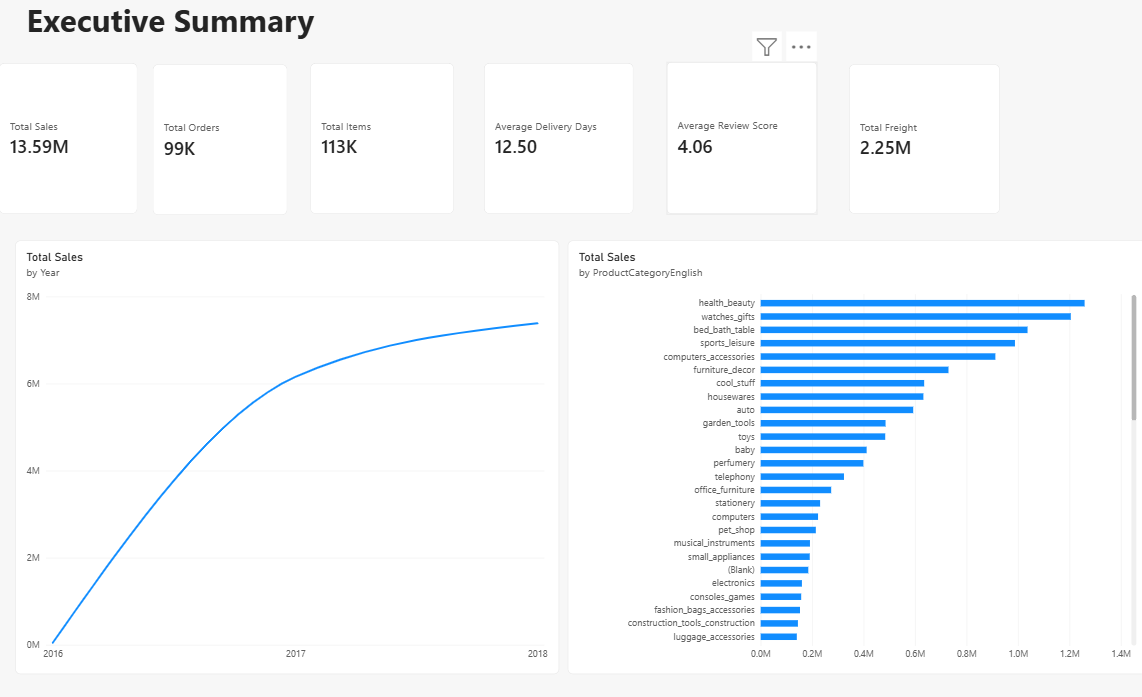

The dashboard page shown, as its layout file describes it:
{"tool":"powerbi","page":{"name":"Executive Overview","canvas":[1920,1080],"ordinal":0},"visuals":[{"type":"cardVisual","fields":{"Data":["mart vw_SalesPerformance.Total Sales"]},"box":[0,100,213.5,232.7],"z":0},{"type":"cardVisual","fields":{"Data":["mart vw_DeliveryPerformance.Total Orders"]},"box":[236.5,101.9,207.7,232.7],"z":1},{"type":"cardVisual","fields":{"Data":["mart vw_SalesPerformance.Total Items"]},"box":[478.8,100,175,232.7],"z":2},{"type":"cardVisual","fields":{"Data":["mart vw_DeliveryPerformance.Average Delivery Days"]},"box":[680.8,100,219.2,232.7],"z":3},{"type":"cardVisual","fields":{"Data":["mart vw_DeliveryPerformance.Average Review Score"]},"box":[925,101.9,217.3,234.6],"z":4},{"type":"lineChart","fields":{"Category":["mart vw_DeliveryPerformance.FullDate.Variation.Date Hierarchy.Year","mart vw_DeliveryPerformance.FullDate.Variation.Date Hierarchy.Quarter","mart vw_DeliveryPerformance.FullDate.Variation.Date Hierarchy.Month","mart vw_DeliveryPerformance.FullDate.Variation.Date Hierarchy.Day"],"Y":["mart vw_SalesPerformance.Total Sales"]},"box":[25,396.2,836.5,644.2],"z":5},{"type":"clusteredBarChart","fields":{"Category":["mart vw_SalesPerformance.ProductCategoryEnglish"],"Y":["mart vw_SalesPerformance.Total Sales"]},"box":[875,396.2,892.3,644.2],"z":6},{"type":"textbox","box":[42.3,0,1876.9,159.6],"z":7},{"type":"textbox","box":[1754,413,165,644],"z":8},{"type":"cardVisual","fields":{"Data":["Sum(mart vw_SalesPerformance.Orders)"]},"box":[1161.5,101.9,211.5,234.6],"z":9},{"type":"cardVisual","fields":{"Data":["mart vw_SalesPerformance.Total Freight"]},"box":[1394.2,101.9,232.7,230.8],"z":10}]}

Visuals, with their boxes on the page's 1920x1080 design canvas (x1, y1, x2, y2). These are canvas units, not pixel positions in the 1142x697 screenshot, which may show the page scaled, cropped or inside an application window:
cardVisual - mart vw_SalesPerformance.Total Sales: select_region(0, 100, 214, 333)
cardVisual - mart vw_DeliveryPerformance.Total Orders: select_region(236, 102, 444, 335)
cardVisual - mart vw_SalesPerformance.Total Items: select_region(479, 100, 654, 333)
cardVisual - mart vw_DeliveryPerformance.Average Delivery Days: select_region(681, 100, 900, 333)
cardVisual - mart vw_DeliveryPerformance.Average Review Score: select_region(925, 102, 1142, 336)
lineChart - mart vw_DeliveryPerformance.FullDate.Variation.Date Hierarchy.Year x mart vw_DeliveryPerformance.FullDate.Variation.Date Hierarchy.Quarter: select_region(25, 396, 862, 1040)
clusteredBarChart - mart vw_SalesPerformance.ProductCategoryEnglish x mart vw_SalesPerformance.Total Sales: select_region(875, 396, 1767, 1040)
textbox: select_region(42, 0, 1919, 160)
textbox: select_region(1754, 413, 1919, 1057)
cardVisual - Sum(mart vw_SalesPerformance.Orders): select_region(1162, 102, 1373, 336)
cardVisual - mart vw_SalesPerformance.Total Freight: select_region(1394, 102, 1627, 333)
